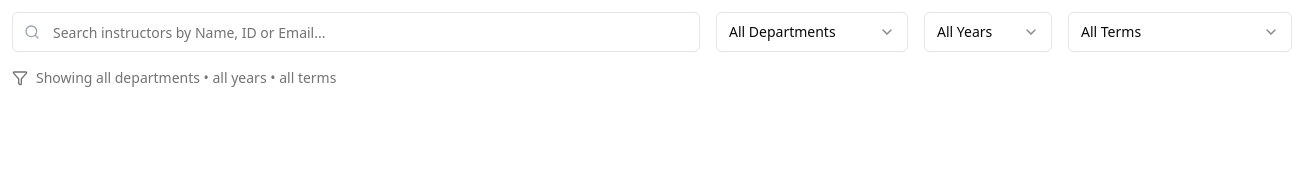
Test: RequirementsFilters › shows term options when clicked
Click the dropdown labelled "All Terms" at (1180, 32), box [1068, 12, 1292, 52]
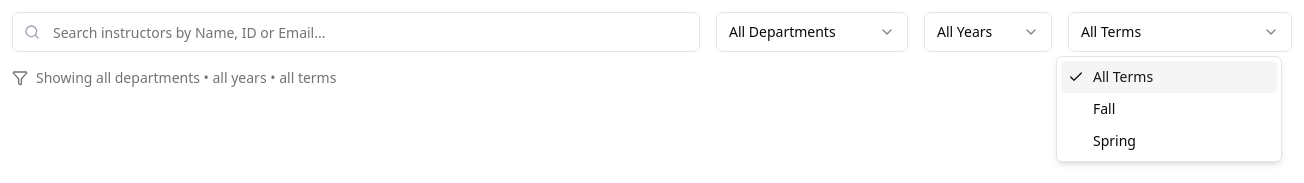
Now the option "All Terms" is shown, box [1061, 61, 1277, 93]
Now the option "Fall" is shown, box [1093, 99, 1115, 118]
Now the option "Spring" is shown, box [1093, 131, 1136, 150]
